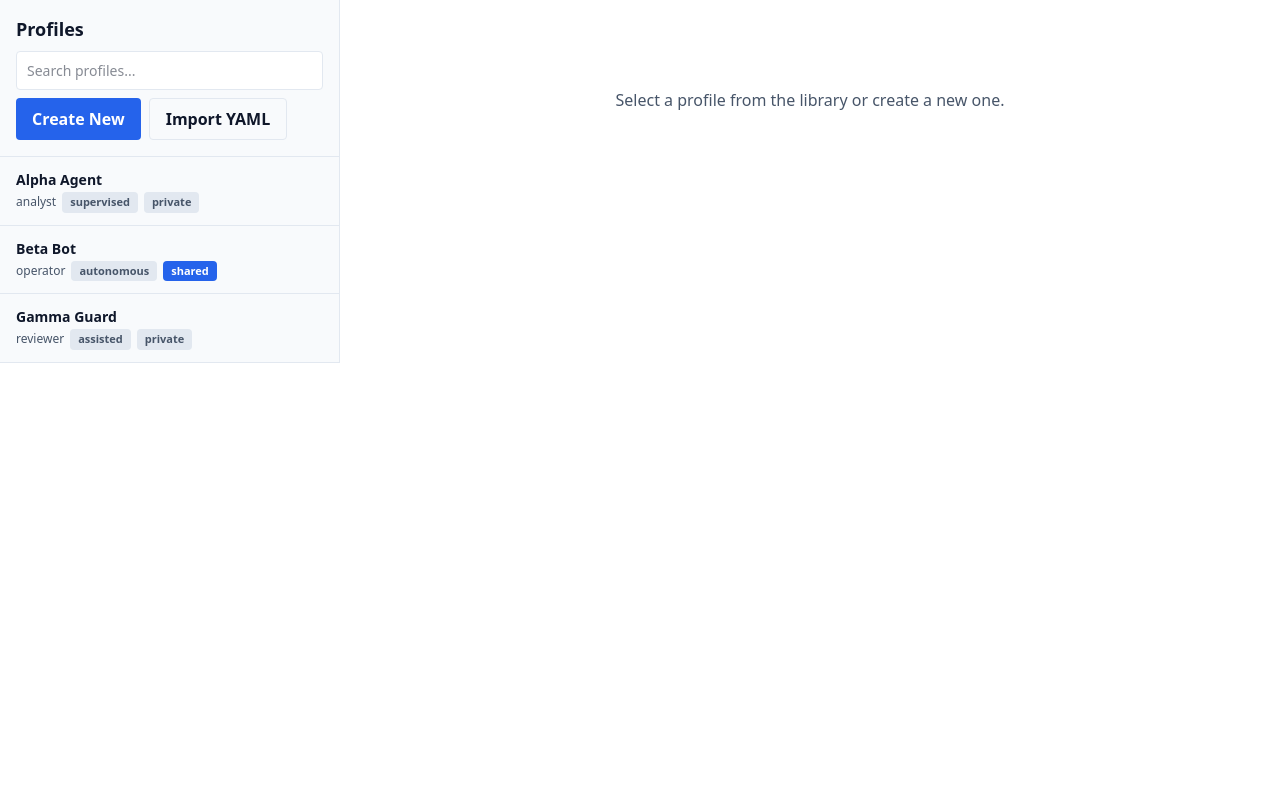
Test case: ProfilesPage — clone flow › shows Cloning... while clone is pending
The image size is (1280, 800).
Step 1. Click the text "Alpha Agent" → point(59, 180), box left=16, top=170, right=102, bottom=189
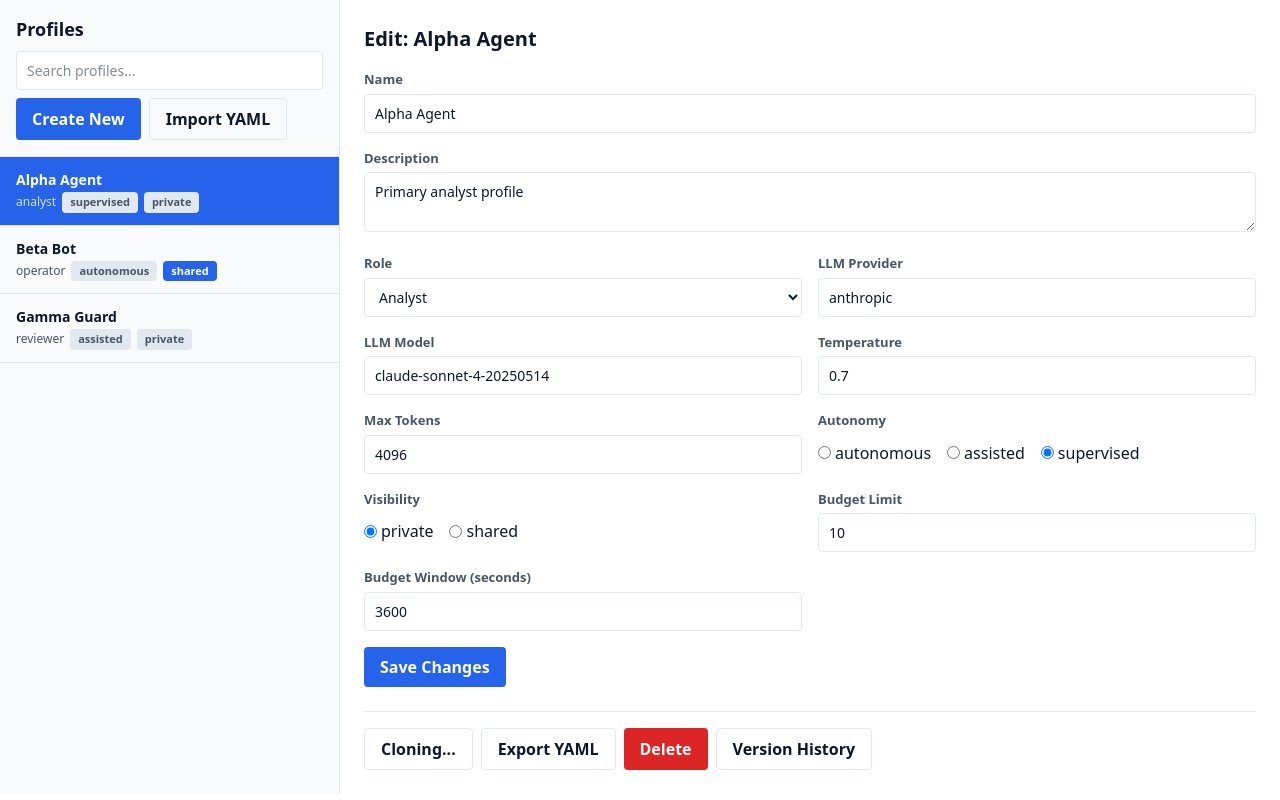
Check: the button "Cloning..." is shown, box left=364, top=728, right=473, bottom=770
